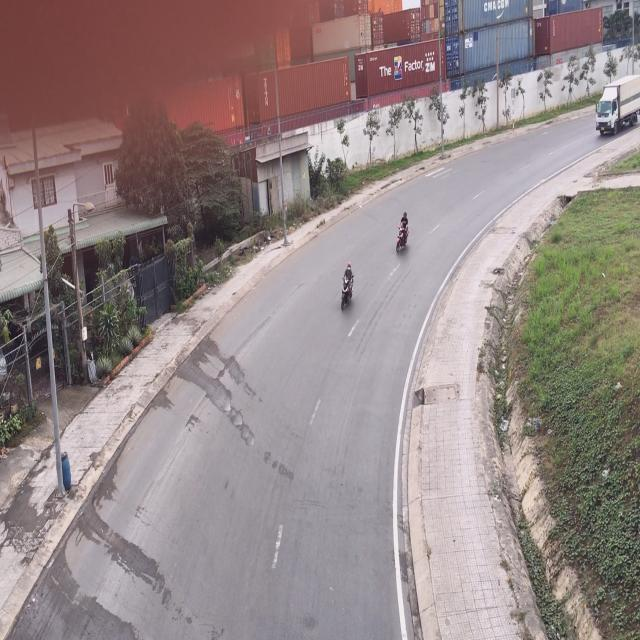motorbike: (394, 210, 412, 258), (340, 260, 356, 313)
truck: (593, 79, 638, 136)
